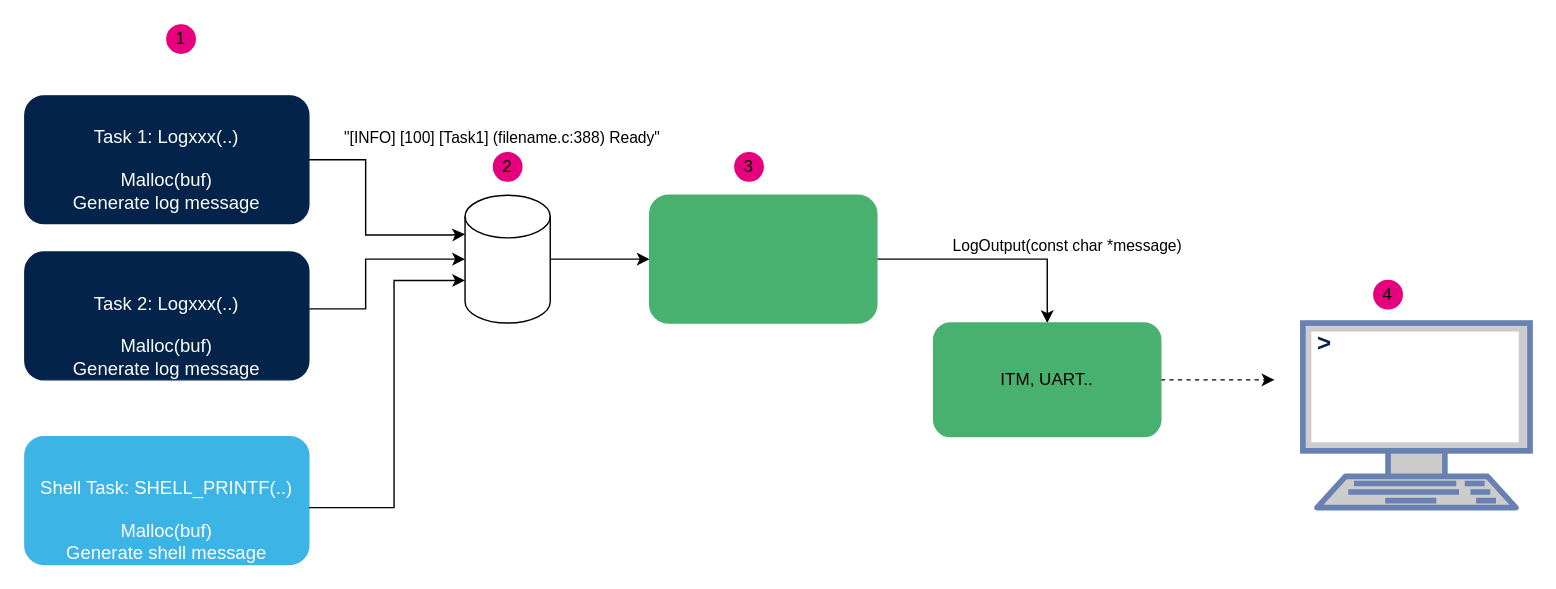
Image size: 1556x589. Some labels were removed from this diagram. Each missing label, with the centre of its shape:
Outptut Task Free(buf): (x=762, y=258)
queue: (x=507, y=258)
